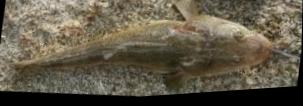fish: (14, 1, 272, 89)
